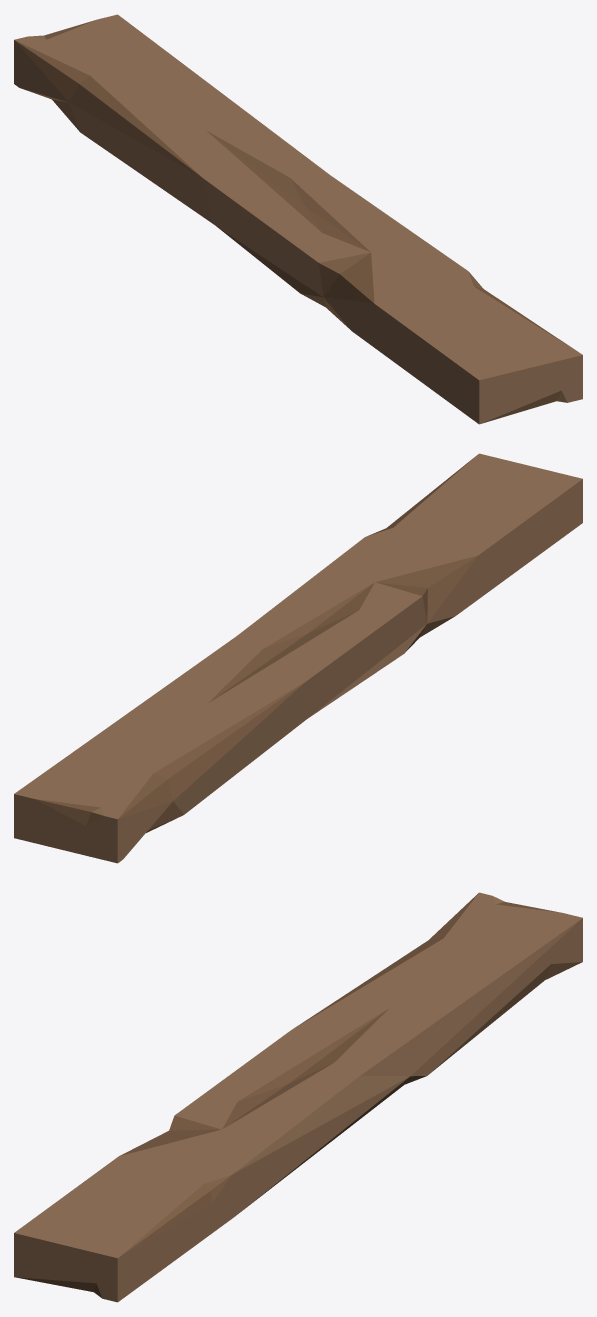
The model's file is mesh_plank_01.fbx.
3 views of the same model, one above another, from view 1: azimuth 30°, elevation 25°; view 2: azimuth 150°, elevation 25°; view 3: azimuth 330°, elevation 25° (orthographic).
Visible parts, largest first — view 1: mesh_plank_01; view 2: mesh_plank_01; view 3: mesh_plank_01.
Part boxes in pixels (box(x1,y1,x2,y2)): mesh_plank_01: box(14, 14, 582, 424); mesh_plank_01: box(14, 453, 582, 863); mesh_plank_01: box(14, 892, 582, 1302).
Bounding box in the file's own units: 0.1316 × 0.0552 × 1.02.
